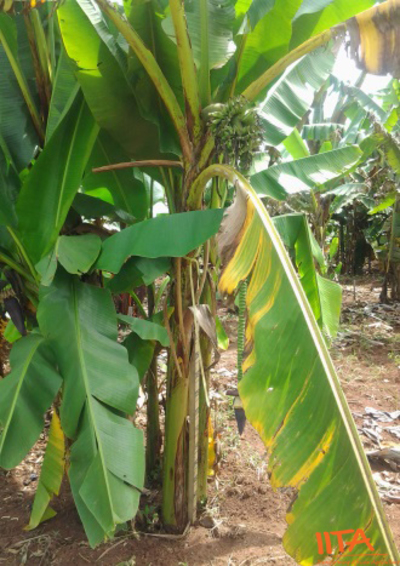bananaHand: (203, 94, 273, 167)
